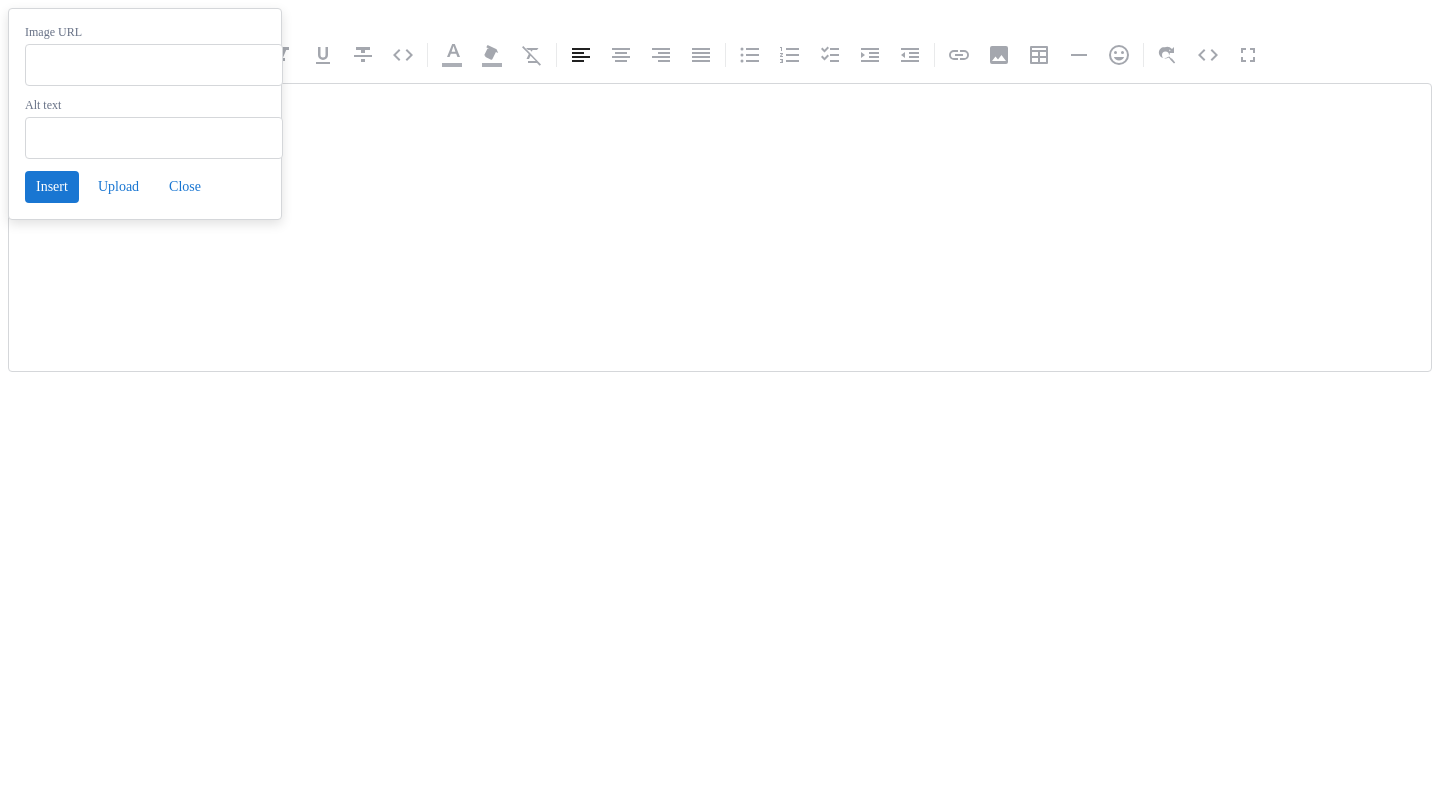
Test: the image dialog › refuses a javascript: URL
Type "javascript:alert(1)" into the field labelled "Image URL" at (154, 65), box 25,44 -> 283,86
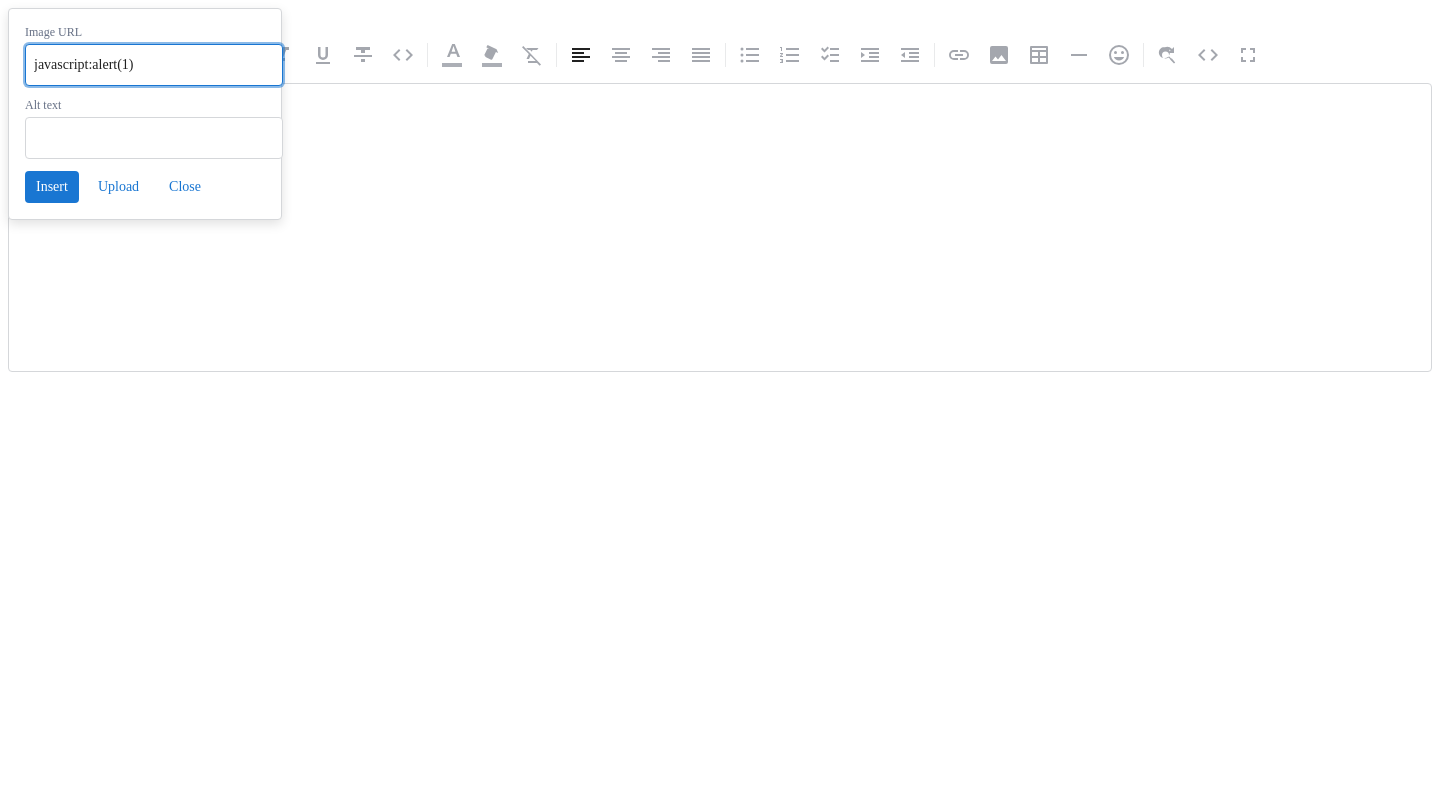
Click the button "Insert" at (52, 187), box 25,171 -> 79,203
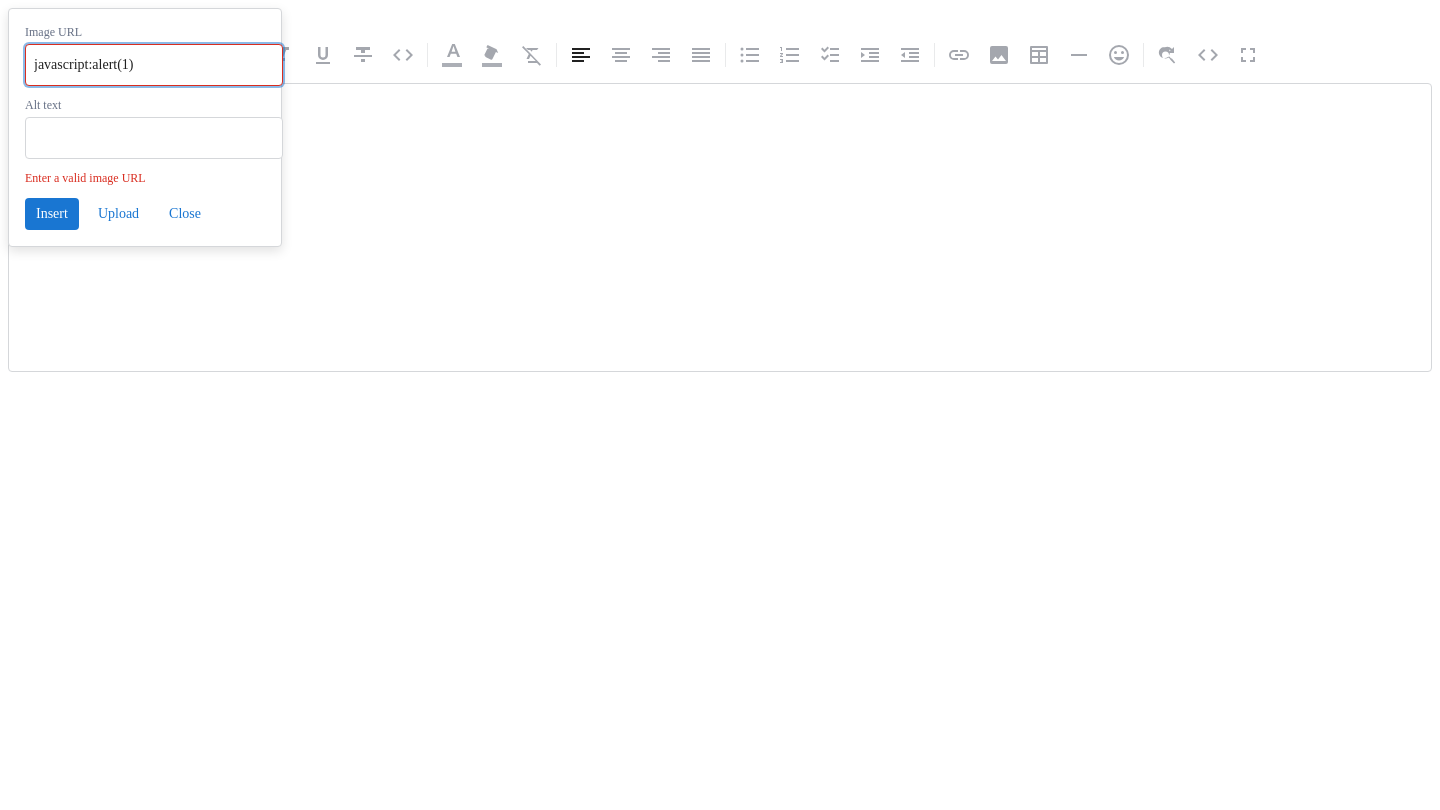
Now the message "Enter a valid image URL" is shown, box 25,171 -> 146,185
